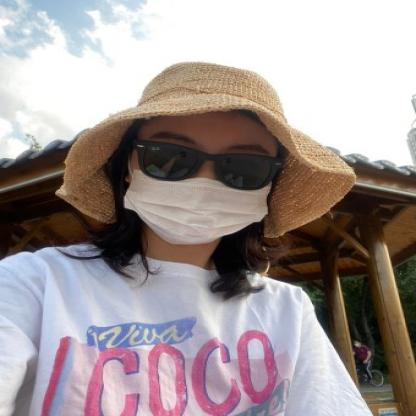hat: (50, 59, 356, 245)
sunglasses: (120, 135, 290, 191)
